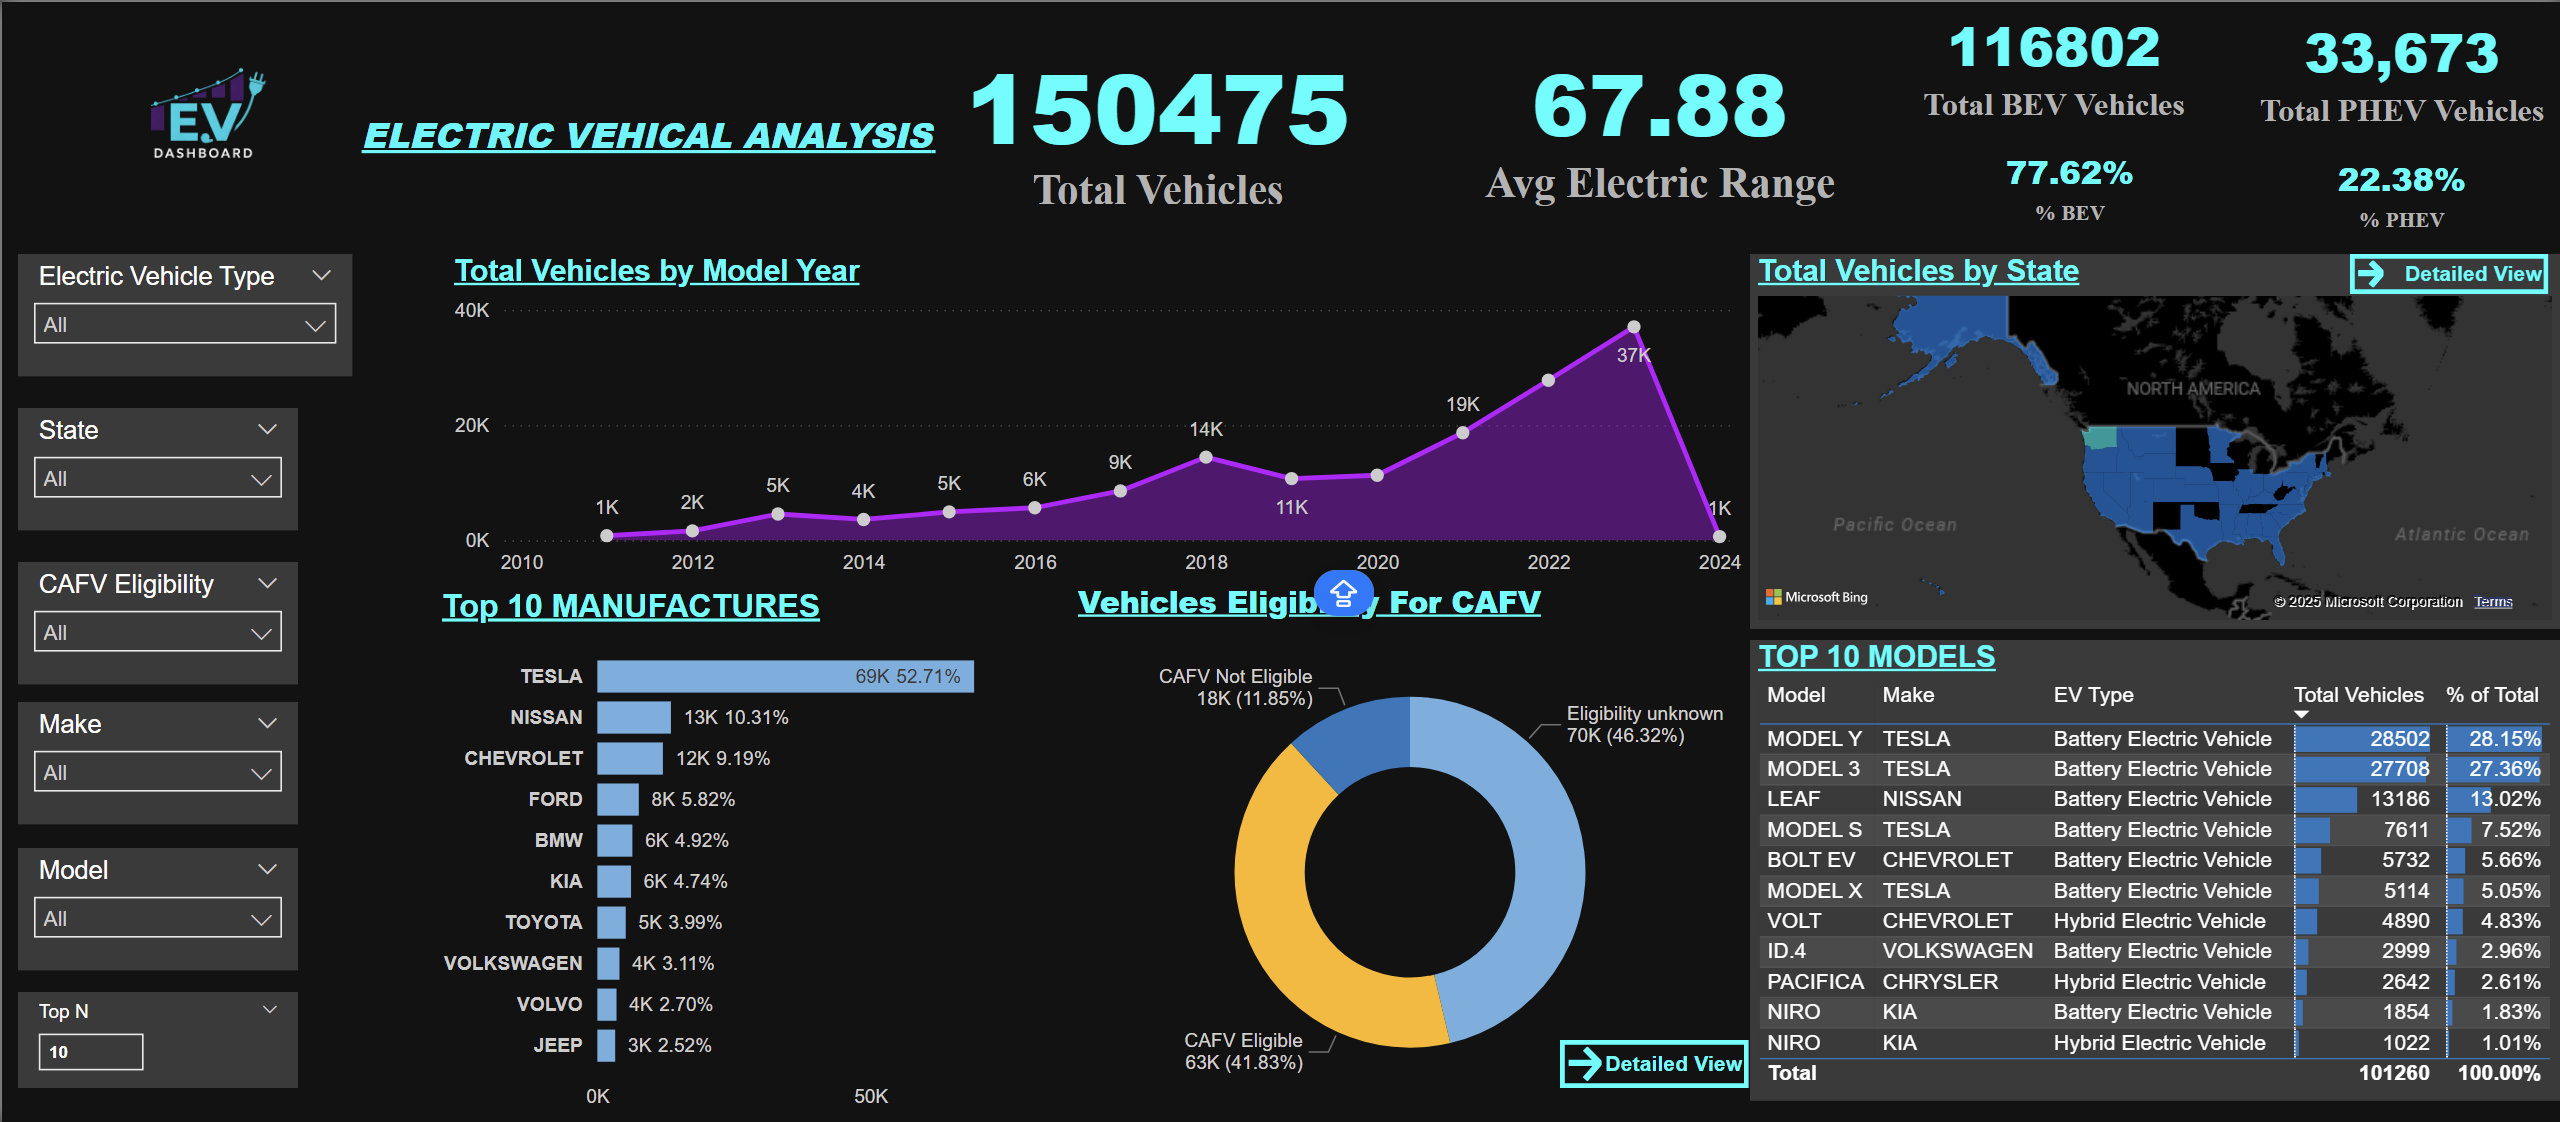

This screenshot's page, from the dashboard's own definition file:
{"tool":"powerbi","page":{"name":"MAIN DASHBOARD","canvas":[1600,700],"ordinal":0},"visuals":[{"type":"card","fields":{"Values":["power bi  xlsm - Electric_Vehicle_Population_Dat.Total Vehicles"]},"box":[588.8,23.8,267.5,107.5],"z":0},{"type":"card","fields":{"Values":["power bi  xlsm - Electric_Vehicle_Population_Dat.Avg Electric Range"]},"box":[918.8,20,235,112.5],"z":1000},{"type":"card","title":"TOTAL BEV VEHICLES","fields":{"Values":["power bi  xlsm - Electric_Vehicle_Population_Dat.Total BEV Vehicles"]},"box":[1165,0,235,77.5],"z":2000},{"type":"card","fields":{"Values":["power bi  xlsm - Electric_Vehicle_Population_Dat.% BEV"]},"box":[1238.8,88.8,107.5,52.5],"z":3000},{"type":"card","fields":{"Values":["power bi  xlsm - Electric_Vehicle_Population_Dat.Total PHEV Vehicles"]},"box":[1400,0,200,85],"z":4000},{"type":"card","fields":{"Values":["power bi  xlsm - Electric_Vehicle_Population_Dat.% PHEV"]},"box":[1426.2,88.8,147.5,61.2],"z":5000},{"type":"areaChart","fields":{"Category":["power bi  xlsm - Electric_Vehicle_Population_Dat.Model Year"],"Y":["power bi  xlsm - Electric_Vehicle_Population_Dat.Total Vehicles"]},"box":[277.5,157.5,815,208.8],"z":6000},{"type":"filledMap","fields":{"Category":["power bi  xlsm - Electric_Vehicle_Population_Dat.State"]},"box":[1092.5,157.5,506.2,233.8],"z":7000},{"type":"clusteredBarChart","title":"Top 10 MANUFACTURES","fields":{"Category":["power bi  xlsm - Electric_Vehicle_Population_Dat.Make"],"Y":["power bi  xlsm - Electric_Vehicle_Population_Dat.Total Vehicles"]},"box":[270,366.2,383.8,333.8],"z":8000},{"type":"donutChart","title":" Vehicles  Eligibility For CAFV","fields":{"Y":["power bi  xlsm - Electric_Vehicle_Population_Dat.Total Vehicles"],"Category":["power bi  xlsm - Electric_Vehicle_Population_Dat.Clean Alternative Fuel Vehicle (CAFV) Eligibility (groups)"]},"box":[667.5,361.2,425,338.8],"z":9000},{"type":"tableEx","title":"TOP 10 MODELS","fields":{"Values":["power bi  xlsm - Electric_Vehicle_Population_Dat.Model","power bi  xlsm - Electric_Vehicle_Population_Dat.Make","power bi  xlsm - Electric_Vehicle_Population_Dat.Electric Vehicle Type","power bi  xlsm - Electric_Vehicle_Population_Dat.Total Vehicles","power bi  xlsm - Electric_Vehicle_Population_Dat.Share %"]},"box":[1093,399,507,288],"z":10000},{"type":"slicer","fields":{"Values":["Top N.Top N"]},"box":[10,618.8,175,60],"z":11000},{"type":"slicer","fields":{"Values":["power bi  xlsm - Electric_Vehicle_Population_Dat.Clean Alternative Fuel Vehicle (CAFV) Eligibility (groups)"]},"box":[10,350,175,76.2],"z":12000},{"type":"slicer","fields":{"Values":["power bi  xlsm - Electric_Vehicle_Population_Dat.Electric Vehicle Type"]},"box":[10,157.5,208.8,76.2],"z":13000},{"type":"slicer","fields":{"Values":["power bi  xlsm - Electric_Vehicle_Population_Dat.Model"]},"box":[10,528.8,175,76.2],"z":14000},{"type":"slicer","fields":{"Values":["power bi  xlsm - Electric_Vehicle_Population_Dat.Make"]},"box":[10,437.5,175,76.2],"z":15000},{"type":"slicer","fields":{"Values":["power bi  xlsm - Electric_Vehicle_Population_Dat.State"]},"box":[10,253.8,175,76.2],"z":16000},{"type":"actionButton","box":[1468,158,124,25],"z":17000},{"type":"actionButton","box":[974,649,118,30],"z":19000},{"type":"image","box":[9.7,0,233.3,150],"z":19001},{"type":"textbox","box":[218.1,62.5,370.8,87.5],"z":19002}]}

Visuals, with their boxes in screenshot pixels (x1, y1, x2, y2), scaled from the page's 1600x700 canvas onto the 2560x1122 screenshot:
card - power bi  xlsm - Electric_Vehicle_Population_Dat.Total Vehicles: [942, 38, 1370, 210]
card - power bi  xlsm - Electric_Vehicle_Population_Dat.Avg Electric Range: [1470, 32, 1846, 212]
"TOTAL BEV VEHICLES" card: [1864, 0, 2240, 124]
card - power bi  xlsm - Electric_Vehicle_Population_Dat.% BEV: [1982, 142, 2154, 226]
card - power bi  xlsm - Electric_Vehicle_Population_Dat.Total PHEV Vehicles: [2240, 0, 2559, 136]
card - power bi  xlsm - Electric_Vehicle_Population_Dat.% PHEV: [2282, 142, 2518, 240]
areaChart - power bi  xlsm - Electric_Vehicle_Population_Dat.Model Year x power bi  xlsm - Electric_Vehicle_Population_Dat.Total Vehicles: [444, 252, 1748, 587]
filledMap - power bi  xlsm - Electric_Vehicle_Population_Dat.State: [1748, 252, 2558, 627]
"Top 10 MANUFACTURES" clusteredBarChart: [432, 587, 1046, 1121]
" Vehicles  Eligibility For CAFV" donutChart: [1068, 579, 1748, 1121]
"TOP 10 MODELS" tableEx: [1749, 640, 2559, 1101]
slicer - Top N.Top N: [16, 992, 296, 1088]
slicer - power bi  xlsm - Electric_Vehicle_Population_Dat.Clean Alternative Fuel Vehicle (CAFV) Eligibility (groups): [16, 561, 296, 683]
slicer - power bi  xlsm - Electric_Vehicle_Population_Dat.Electric Vehicle Type: [16, 252, 350, 375]
slicer - power bi  xlsm - Electric_Vehicle_Population_Dat.Model: [16, 848, 296, 970]
slicer - power bi  xlsm - Electric_Vehicle_Population_Dat.Make: [16, 701, 296, 823]
slicer - power bi  xlsm - Electric_Vehicle_Population_Dat.State: [16, 407, 296, 529]
actionButton: [2349, 253, 2547, 293]
actionButton: [1558, 1040, 1747, 1088]
image: [16, 0, 389, 240]
textbox: [349, 100, 942, 240]
